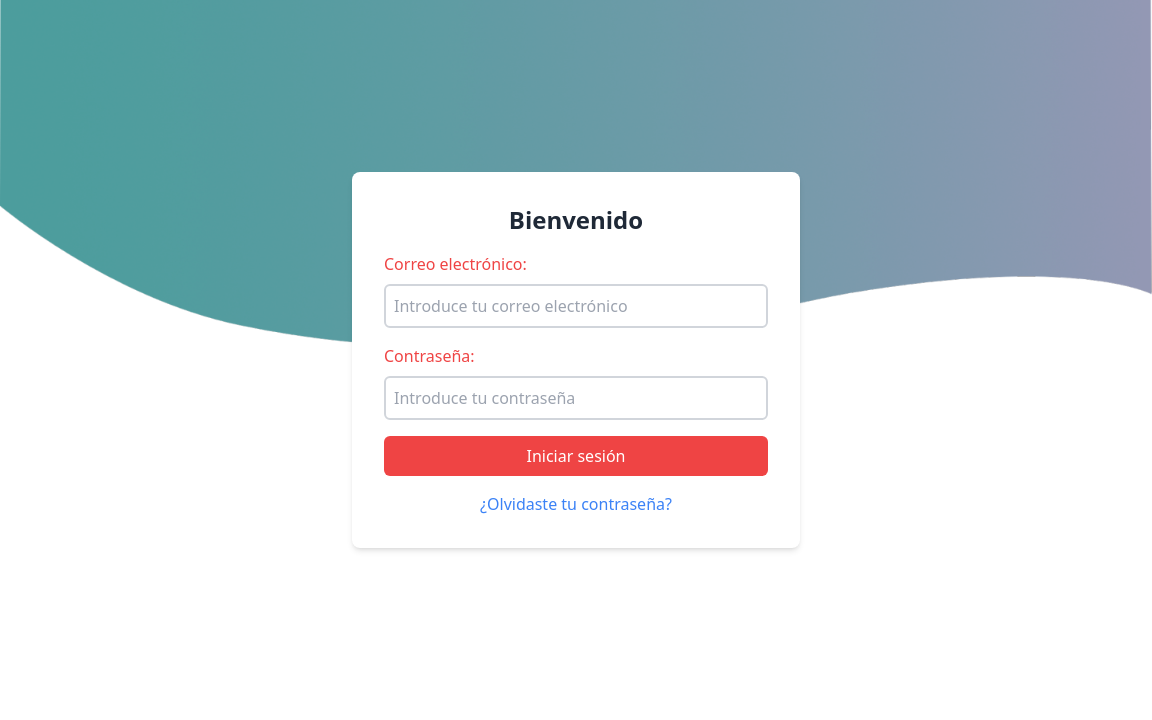
Test case: LoginForm › shows error on profile fetch failure
This screenshot has width=1152, height=720.
Type "test@example.com" into the field labelled "Correo electrónico:".
click(576, 306); type("test@example.com")  # box [384,284,768,328]
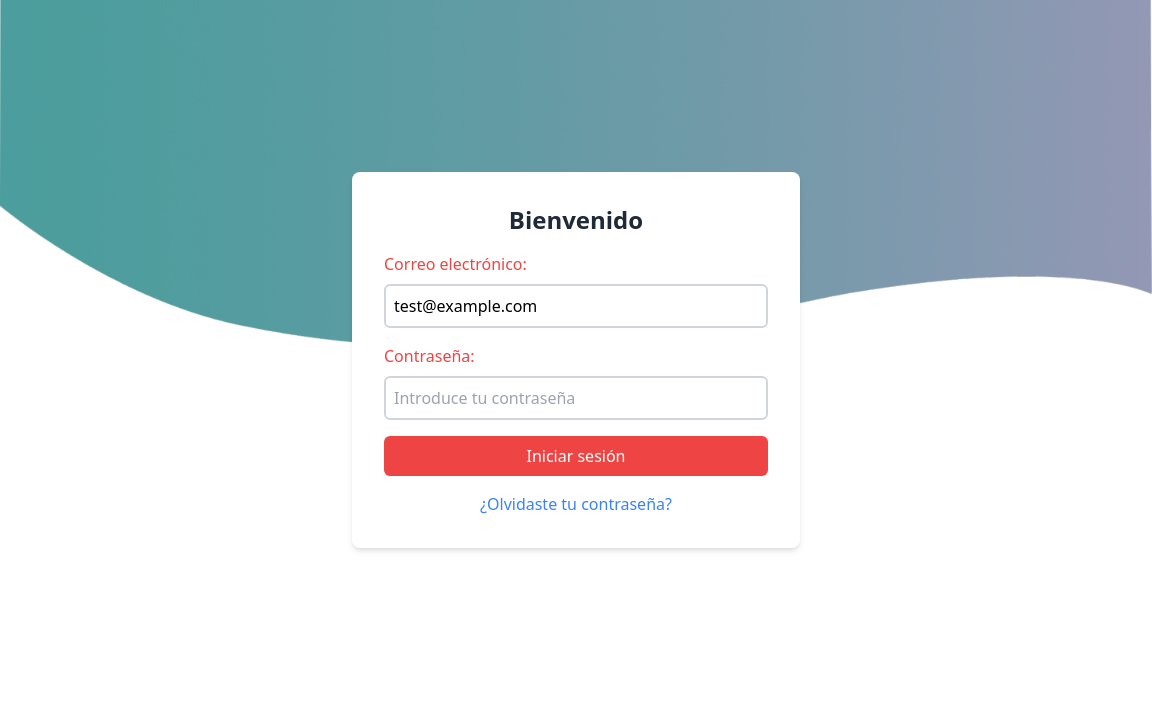
Type "password123" into the password field labelled "Contraseña:".
click(576, 398); type("password123")  # box [384,376,768,420]
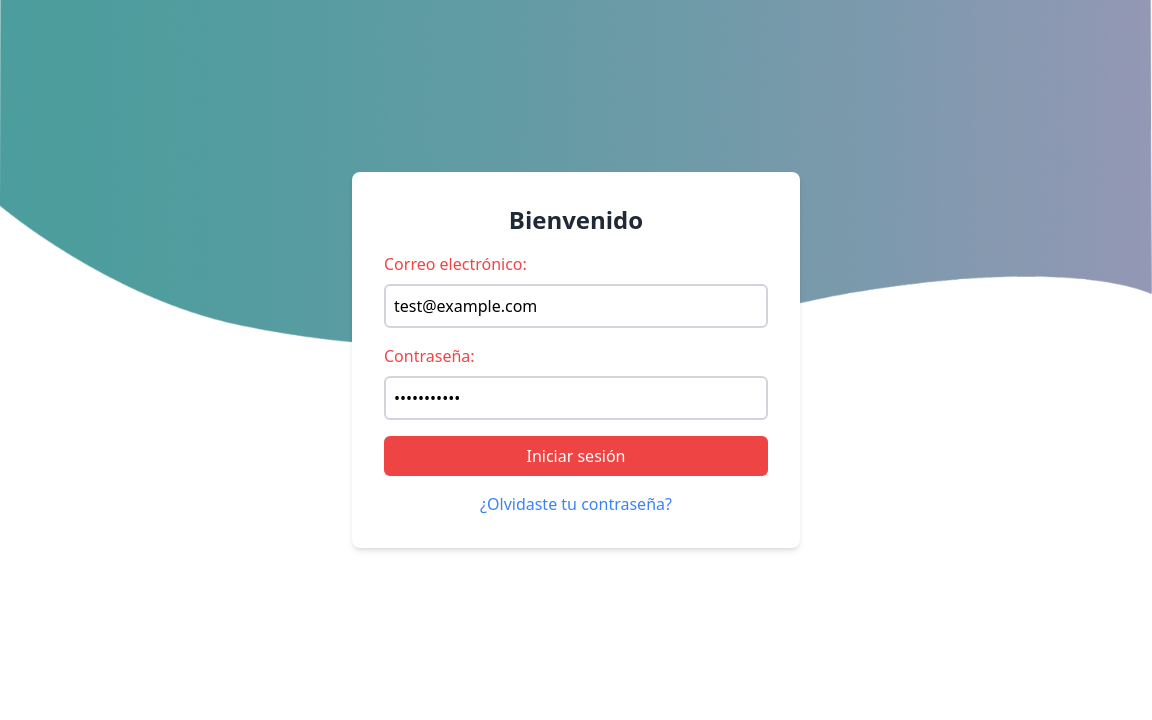
Click the button "Iniciar sesión".
click(576, 456)  # box [384,436,768,476]
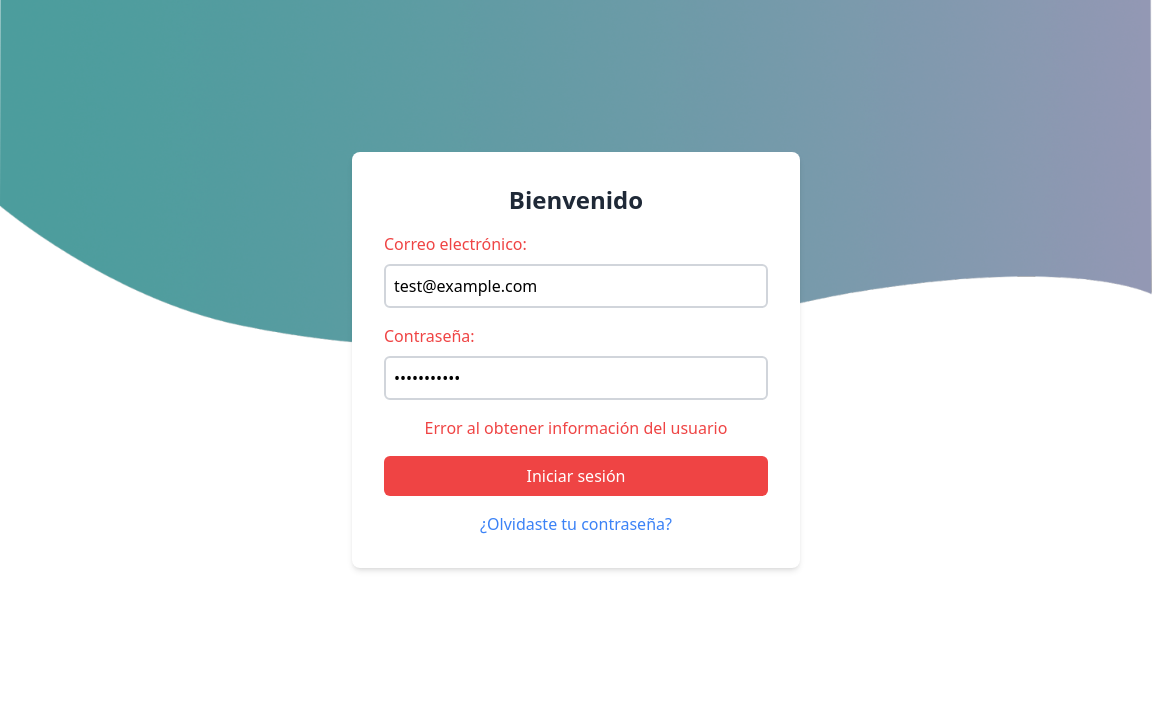
expect the text "Error al obtener información del usuario" is shown: met, box [425,417,727,439]
